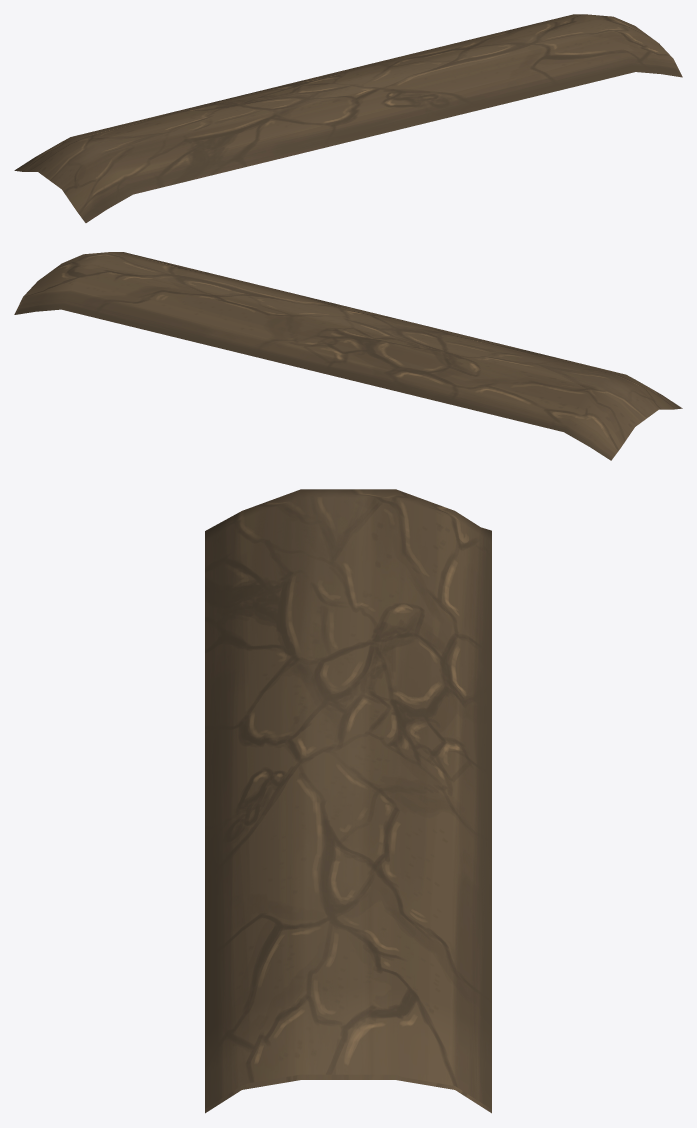
Rendered from Dirt.fbx.
The picture shows the model from 3 angles, top to bottom: view 1: azimuth 30°, elevation 25°; view 2: azimuth 150°, elevation 25°; view 3: azimuth 270°, elevation 25°; orthographic projection. The views are drawn at different scales.
Parts seen in each view (by area): view 1: pCube62; view 2: pCube62; view 3: pCube62.
Boxes of the visible parts, left/top/right/bottom form: pCube62: left=14, top=14, right=682, bottom=222; pCube62: left=14, top=252, right=682, bottom=460; pCube62: left=205, top=489, right=491, bottom=1113.
Bounding box in the file's own units: 30.58 × 1.95 × 6.37.
Materials: 1 (1 with a texture image).
